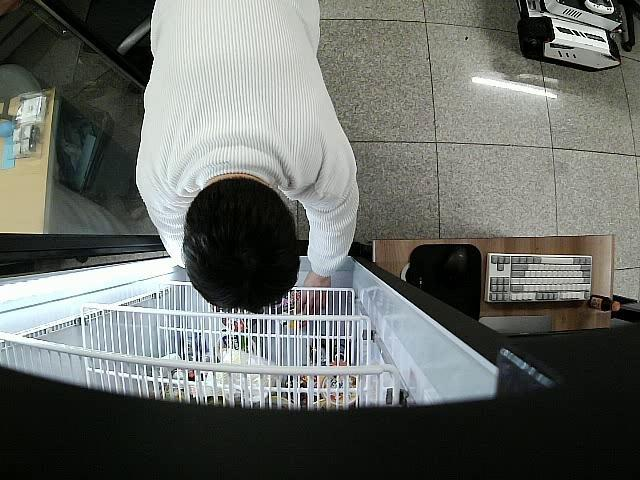07_buldak_L: (273, 288, 307, 326)
